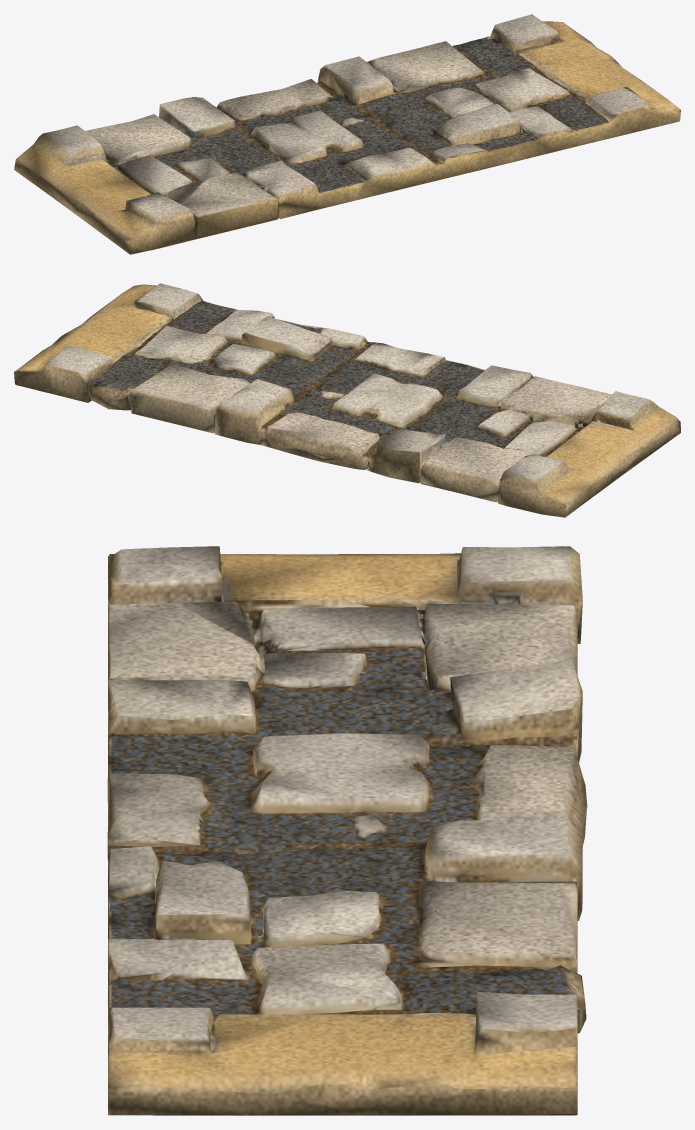
Rendered from path_strip.glb.
3 views of the same model, one above another, from view 1: azimuth 30°, elevation 25°; view 2: azimuth 150°, elevation 25°; view 3: azimuth 270°, elevation 25° (orthographic). The views are drawn at different scales.
Parts seen in each view (by area): view 1: Mesh_0.001; view 2: Mesh_0.001; view 3: Mesh_0.001.
Boxes of the visible parts, left/top/right/bottom form: Mesh_0.001: left=14, top=14, right=680, bottom=254; Mesh_0.001: left=14, top=283, right=680, bottom=517; Mesh_0.001: left=107, top=546, right=587, bottom=1115.
Size of the model in its own units: 1.9 by 0.1039 by 0.7184.
1 material, 1 textured.
